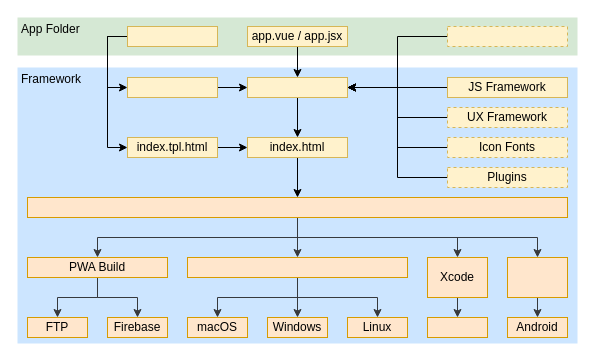
Some shapes in this 594 by 360 pixel diagram are drawn without their labels. Each missing label, with the centre of its shape:
/lang: (507,36)
Android Studio: (537,277)
app.js: (297,87)
app.tpl.js: (172,87)
config.json: (172,36)
Electron Build: (297,267)
iOS: (457,327)
Web Build: (297,207)
